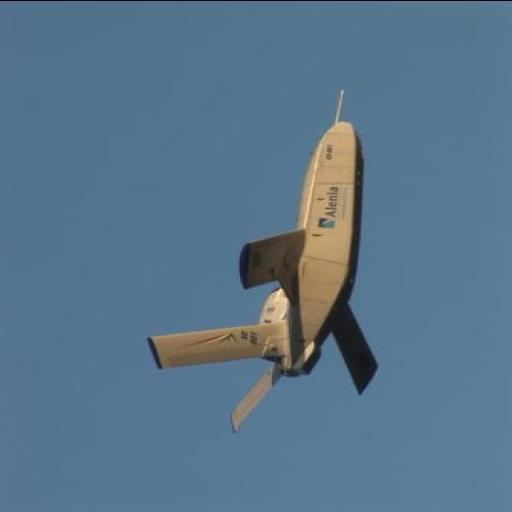uav: (136, 116, 394, 438)
